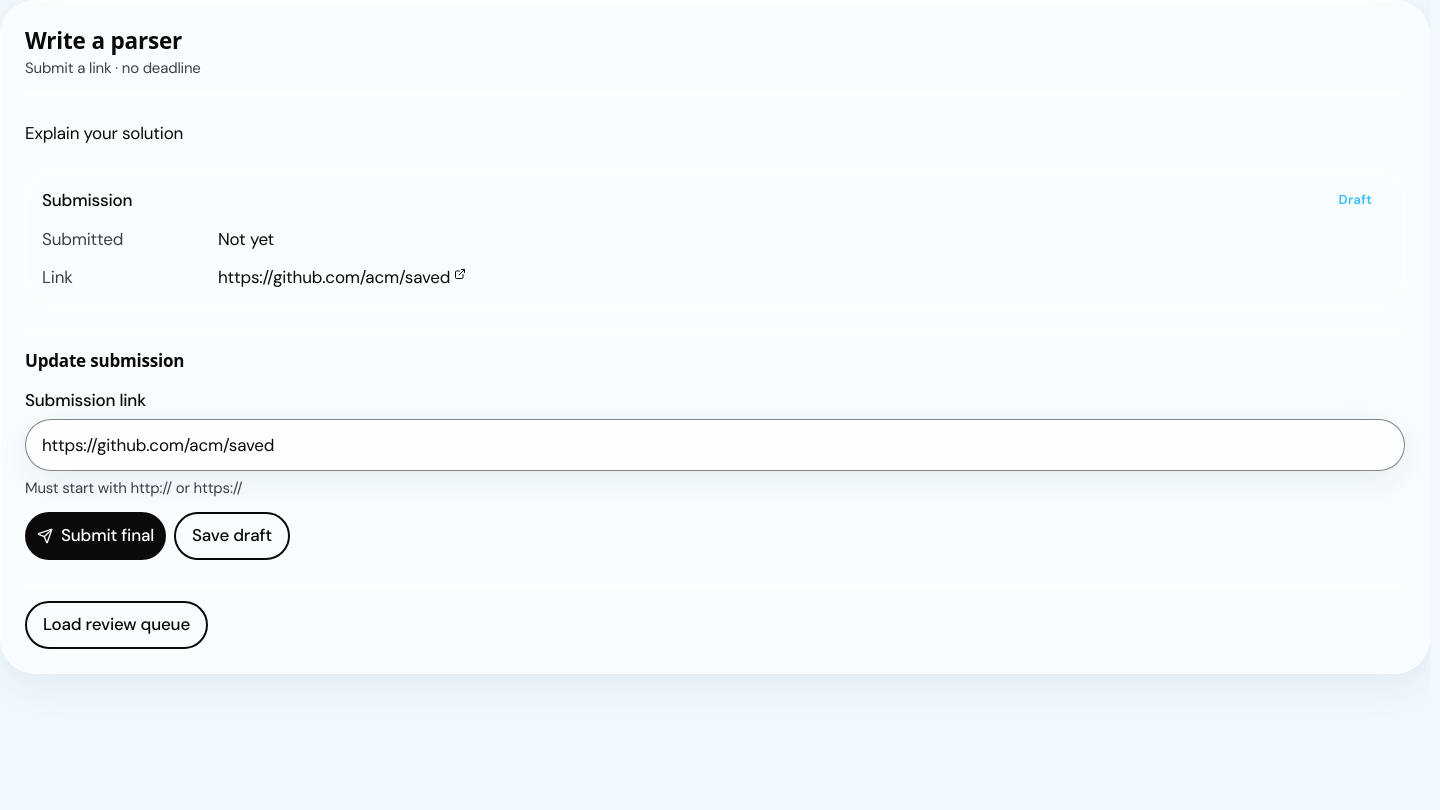
assignment workflow › restores link drafts and updates the submission cache after save
Replace the text in the field labelled "Submission link" with "https://github.com/acm/new": (715,445) 25,419 -> 1405,471
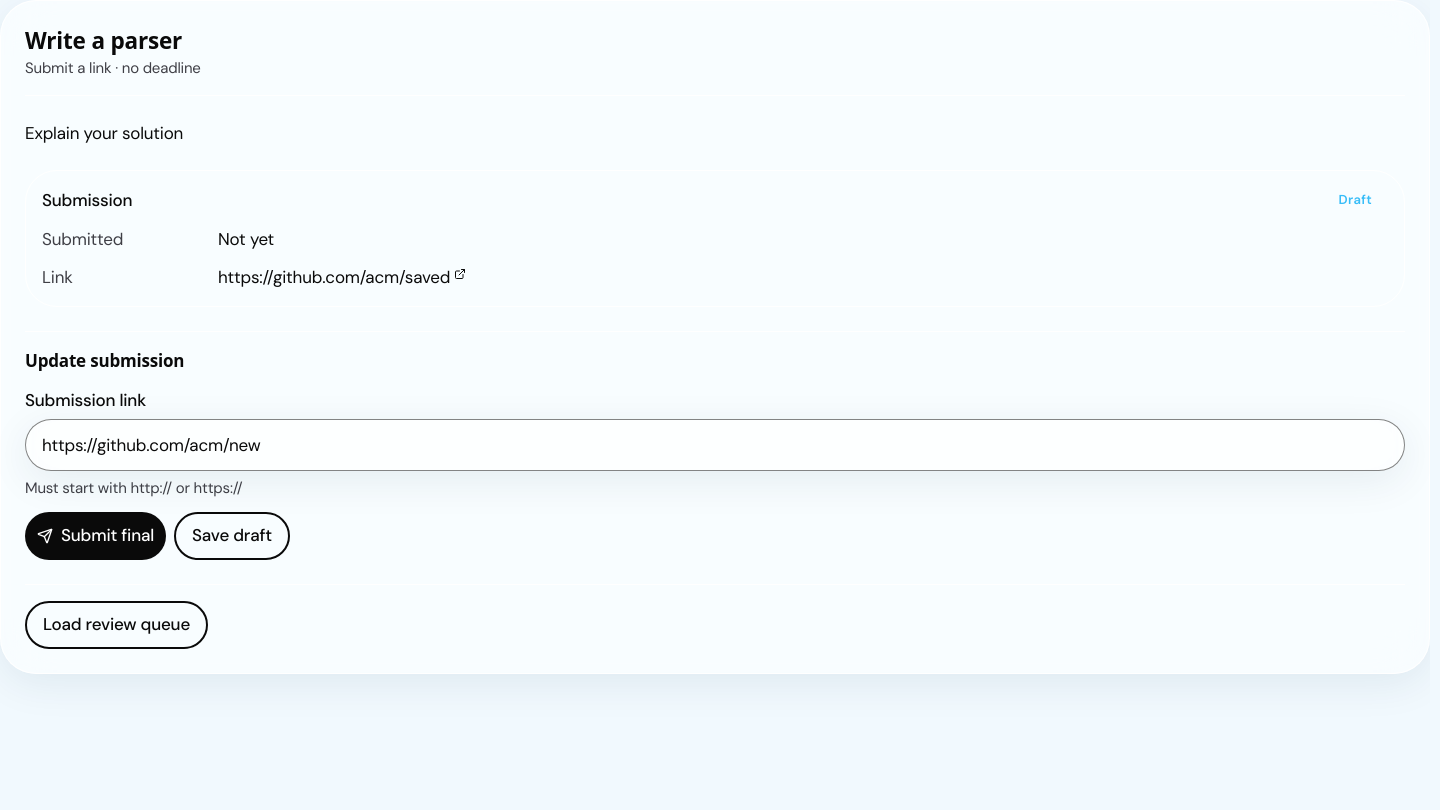
Click the button "Save draft": (232,536) 174,512 -> 290,560
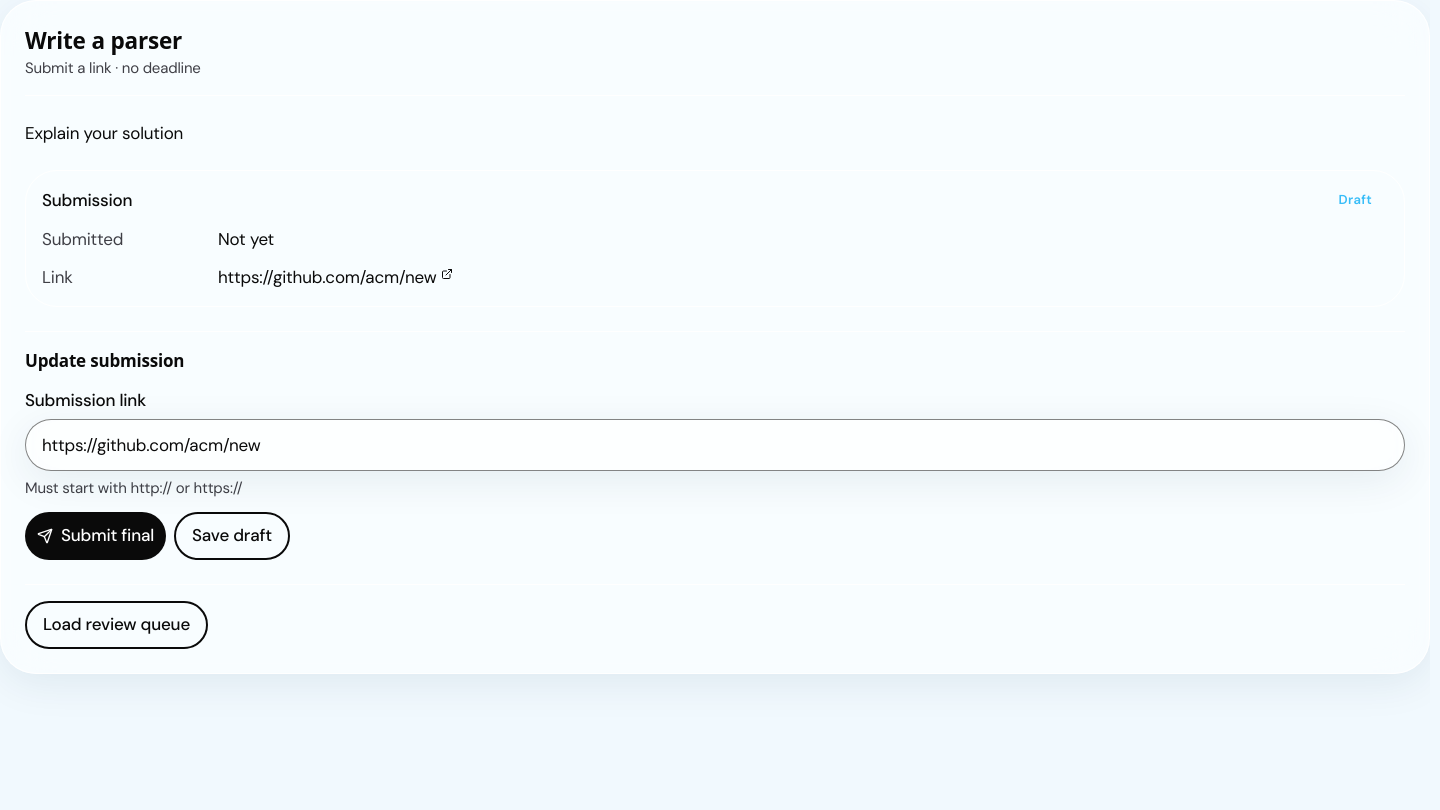
Expected: the text "https://github.com/acm/new" is shown, 218,264 -> 436,290
